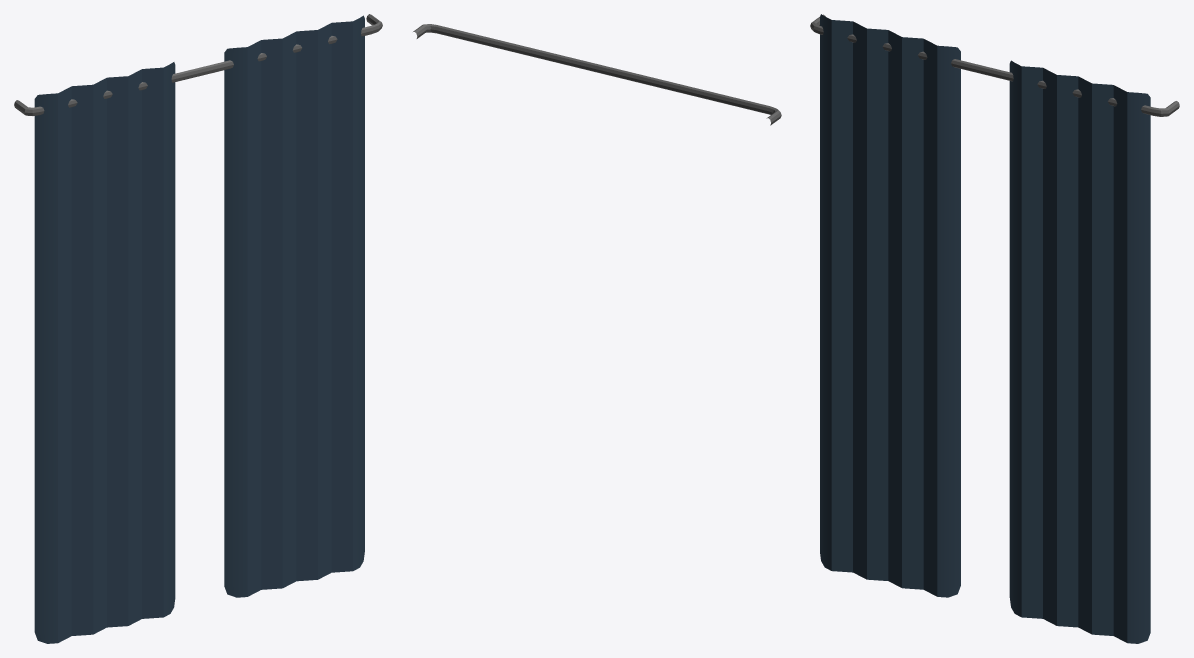
The model's file is decor-curtains-double.glb.
3 renders of one model, left to right at view 1: azimuth 30°, elevation 25°; view 2: azimuth 150°, elevation 25°; view 3: azimuth 330°, elevation 25°, orthographic.
Parts seen in each view (by area): view 1: Curtains_Double; view 2: Curtains_Double; view 3: Curtains_Double.
Part boxes in pixels (x1,y1,x2,y2): Curtains_Double: (14,14,382,643); Curtains_Double: (413,24,781,125); Curtains_Double: (810,14,1179,643).
Bounding box in the file's own units: 1.5 × 2.2 × 0.12.
